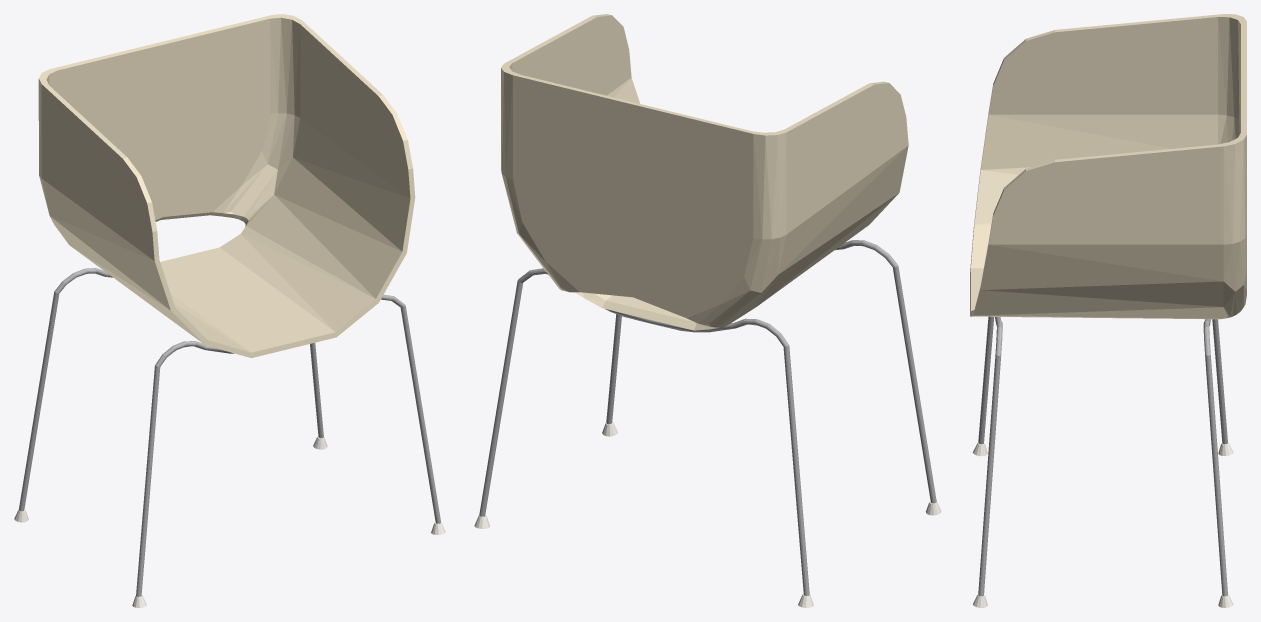
Rendered from Chair.glb.
3 renders of one model, left to right at view 1: azimuth 30°, elevation 25°; view 2: azimuth 150°, elevation 25°; view 3: azimuth 270°, elevation 25°, orthographic. The views are drawn at different scales.
Visible parts, largest first — view 1: Node; view 2: Node; view 3: Node.
Boxes of the visible parts, box(x1,y1,x2,y2) form: Node: box(14, 14, 445, 607); Node: box(474, 14, 941, 607); Node: box(970, 14, 1246, 607).
Bounding box in the file's own units: 27.43 × 36.49 × 20.28.
